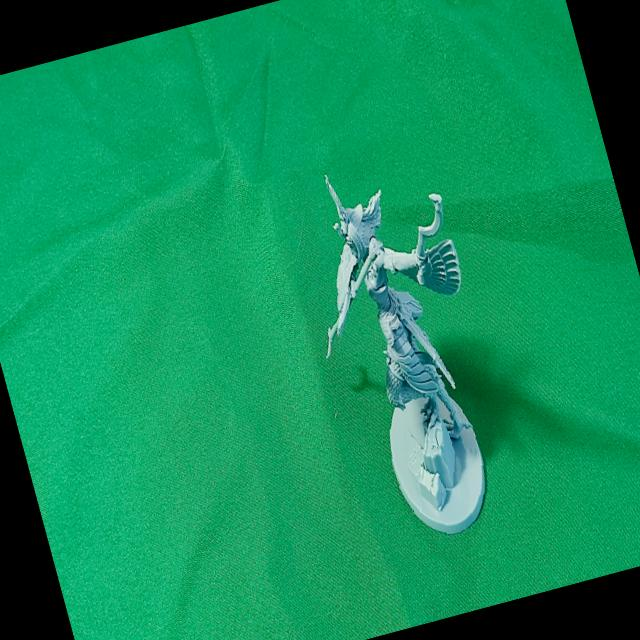isis: (256, 123, 546, 580)
